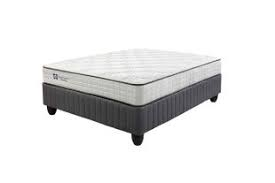bed-matress: (43, 46, 223, 107)
